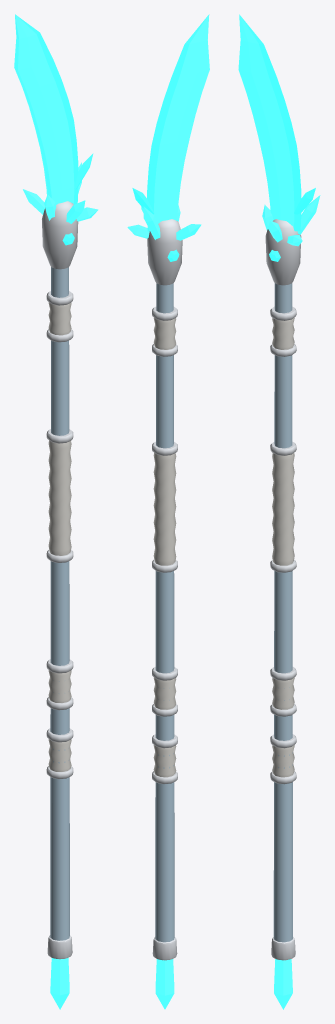
Rendered from frost_glaive.glb.
3 renders of one model, left to right at view 1: azimuth 30°, elevation 25°; view 2: azimuth 210°, elevation 25°; view 3: azimuth 330°, elevation 25°, orthographic. The views are drawn at different scales.
Visible parts, largest first — view 1: frost_glaive; view 2: frost_glaive; view 3: frost_glaive.
Boxes of the visible parts, x1,y1,x2,y2 form: frost_glaive: (14,14,98,1009); frost_glaive: (127,14,209,1009); frost_glaive: (238,14,320,1009).
Bounding box in the file's own units: 0.1789 × 2.19 × 0.1507.
